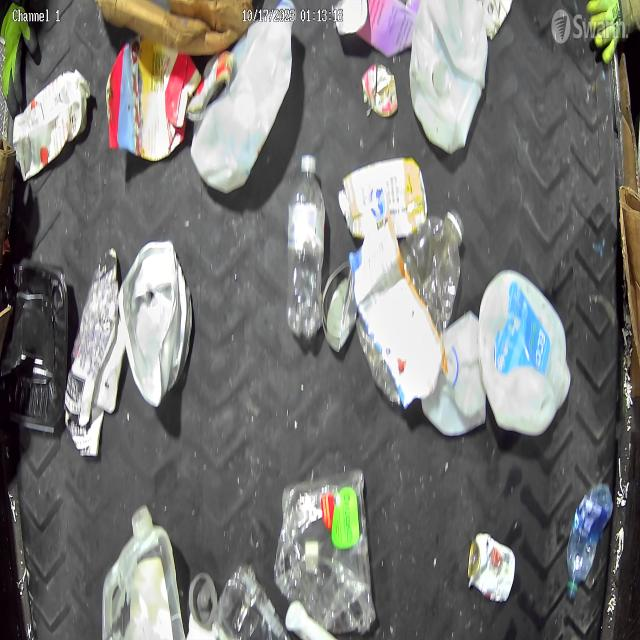can: (468, 531, 515, 604), (322, 259, 359, 351), (360, 61, 399, 120)
milk_jug: (192, 1, 296, 192), (479, 268, 570, 437), (411, 0, 489, 155), (102, 503, 186, 640), (422, 308, 486, 436)
non_white_jug: (13, 70, 91, 180)
plastic_bottle: (357, 209, 464, 405), (289, 151, 325, 339), (217, 562, 302, 640), (566, 485, 614, 598)
